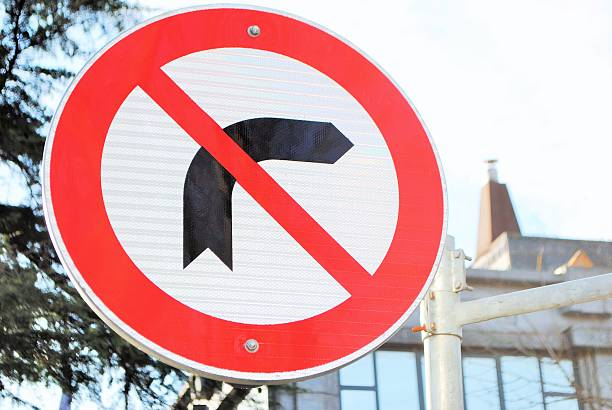saga_donulmez: (45, 5, 458, 386)
